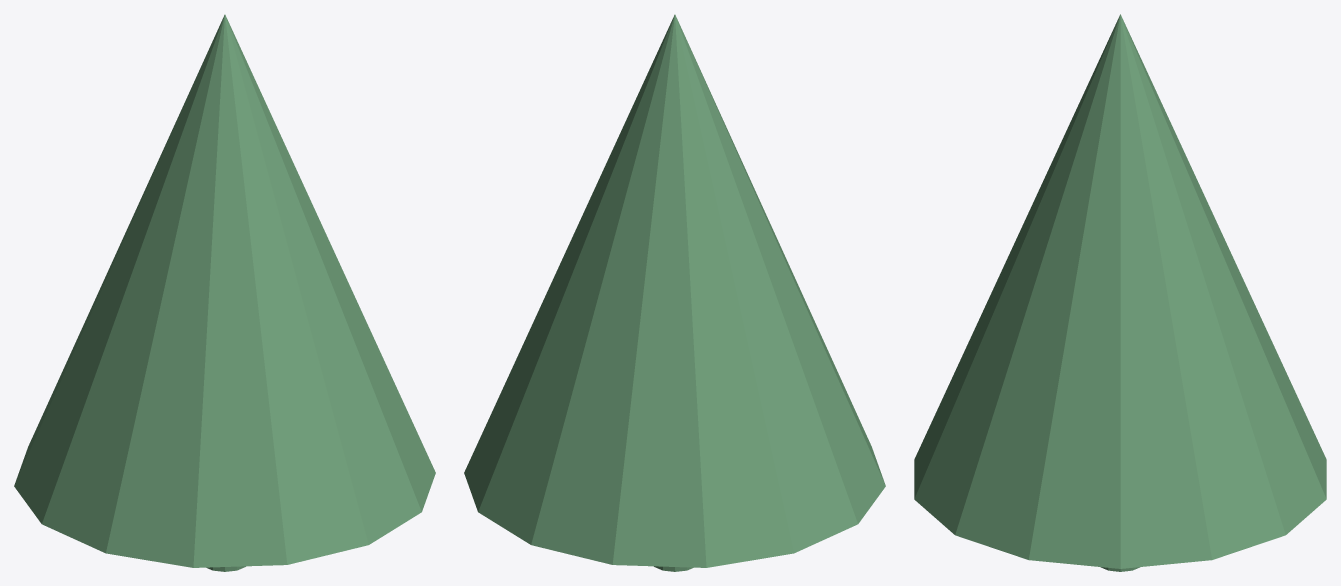
File: pine-tree.glb
3 renders of one model, left to right at view 1: azimuth 30°, elevation 25°; view 2: azimuth 150°, elevation 25°; view 3: azimuth 270°, elevation 25°, orthographic.
Parts seen in each view (by area): view 1: pine-tree; view 2: pine-tree; view 3: pine-tree.
Boxes of the visible parts, x1,y1,x2,y2 form: pine-tree: [14, 14, 435, 571]; pine-tree: [464, 14, 885, 571]; pine-tree: [914, 14, 1326, 571].
Size of the model in its own units: 0.7 by 1 by 0.6824.
